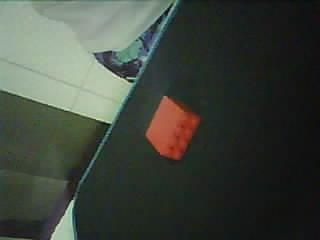lego: (144, 96, 202, 160)
